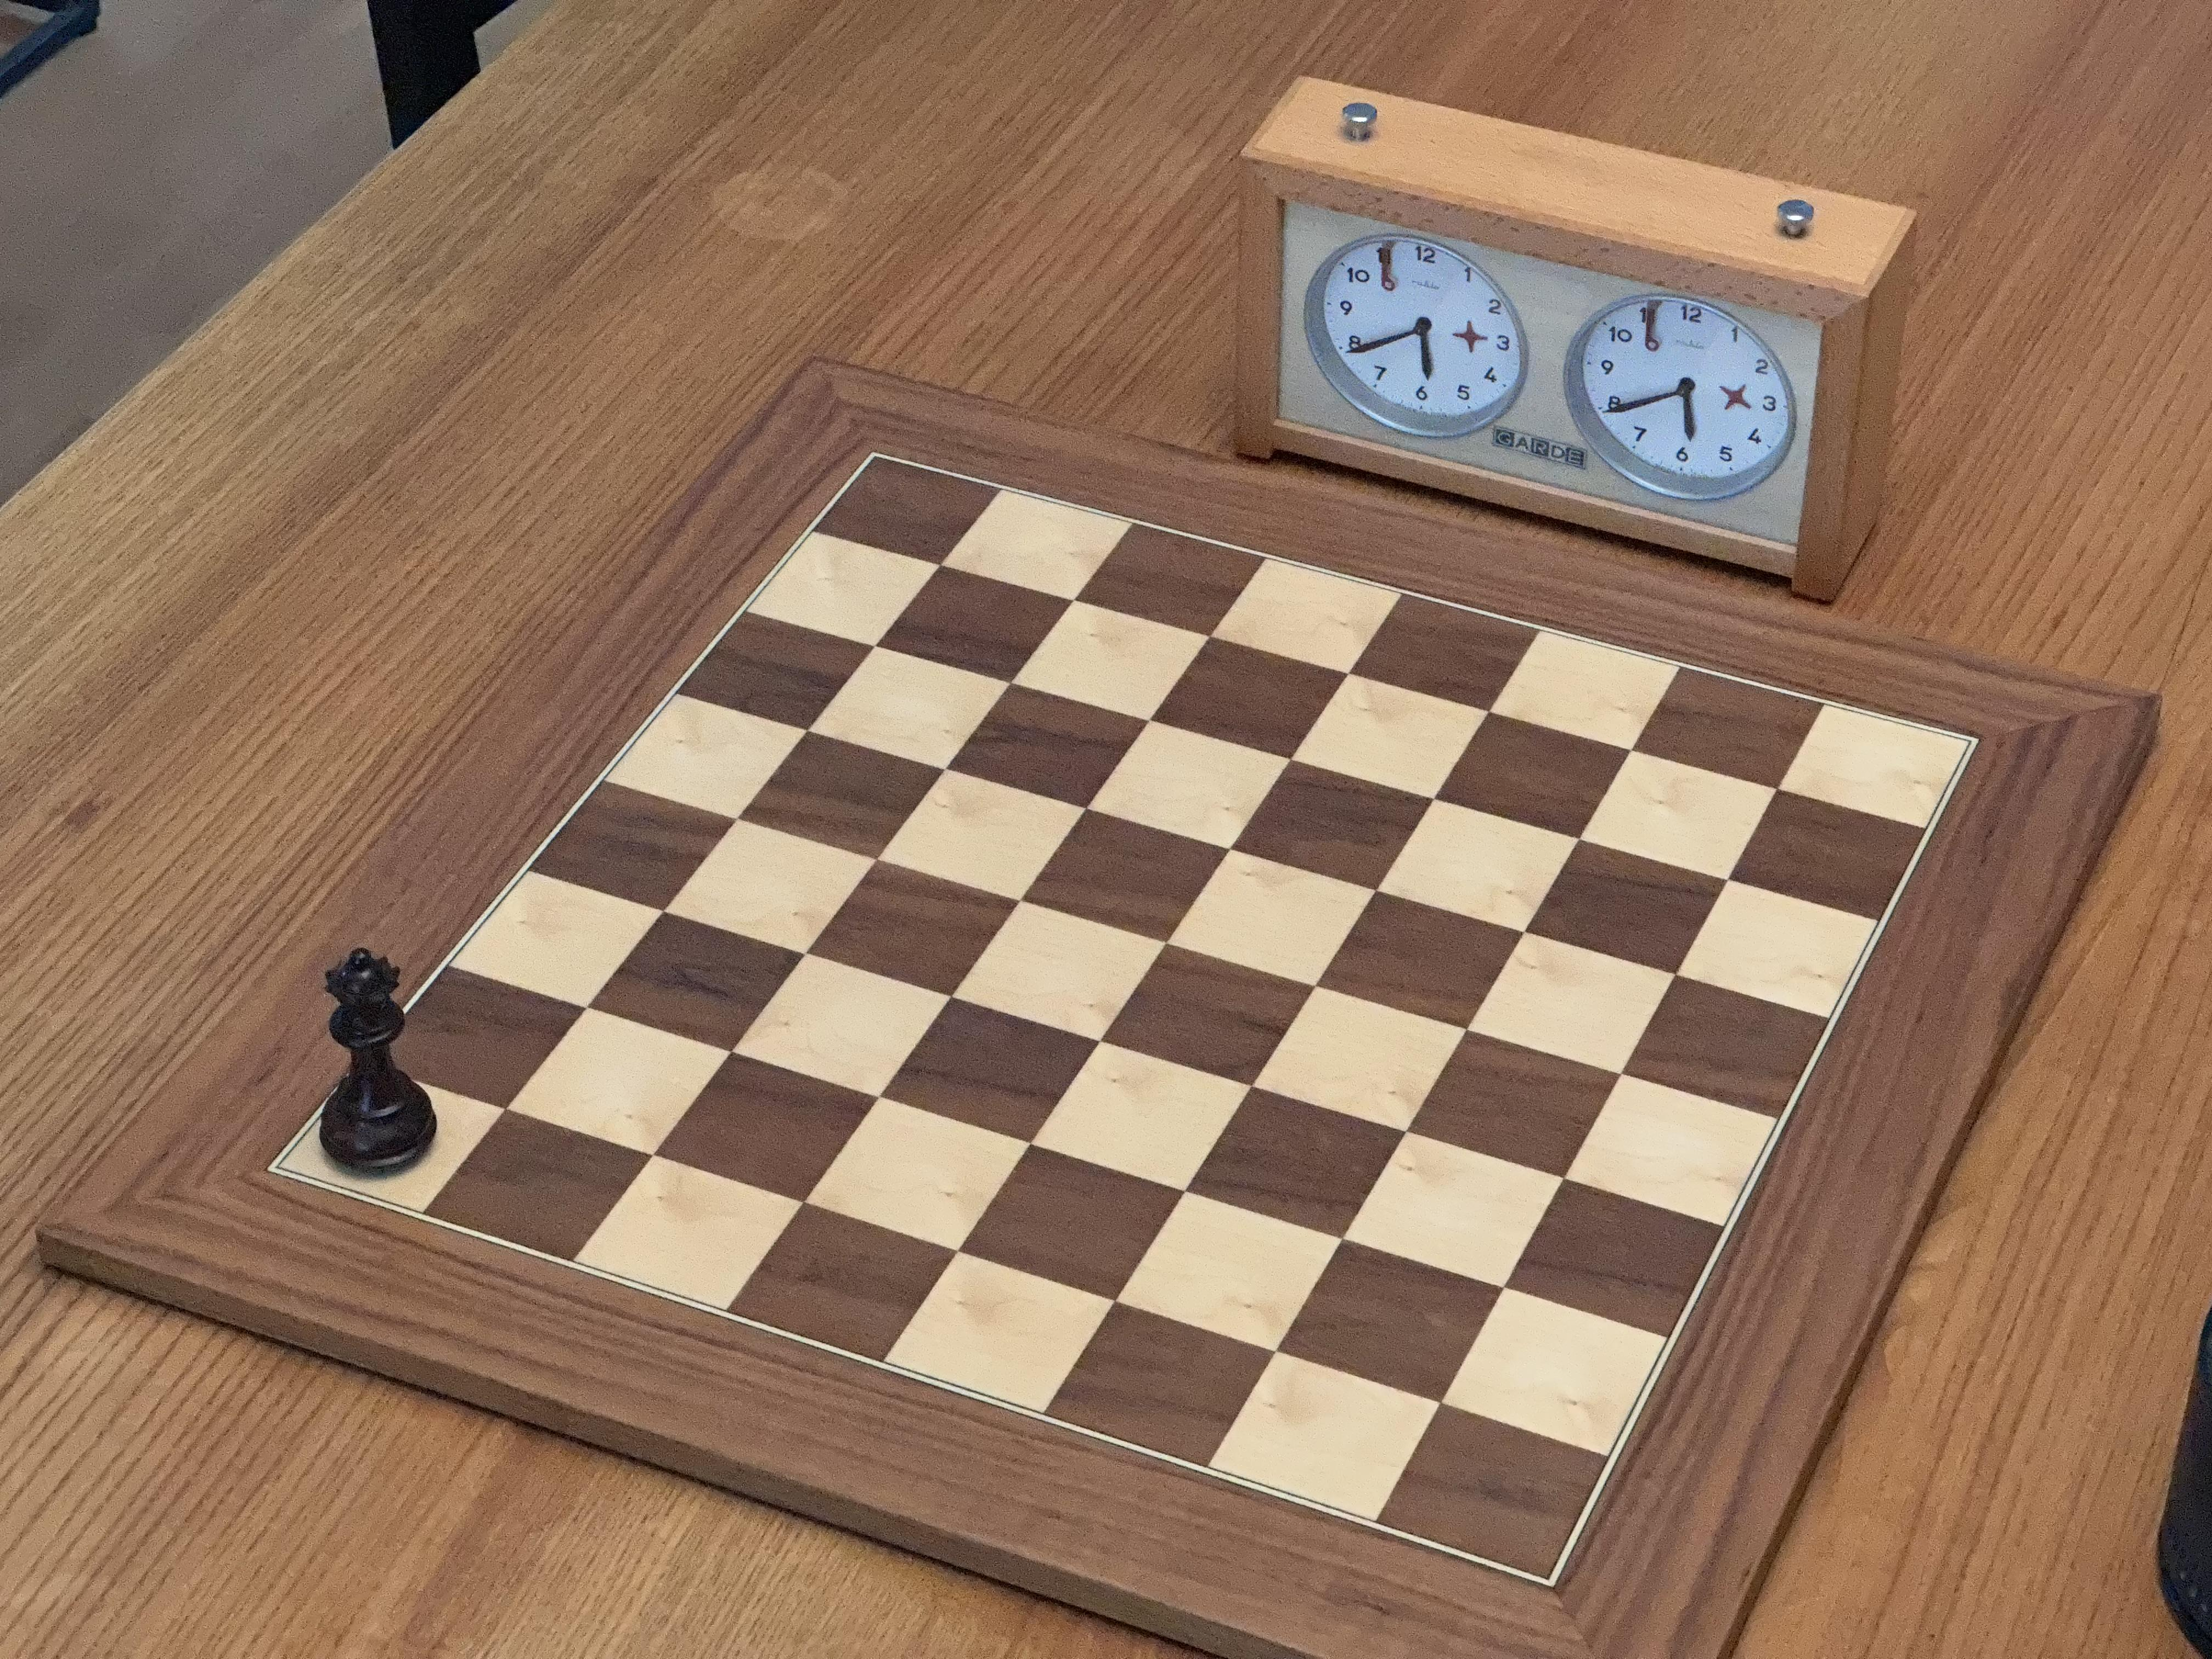Black Queen: (300, 936, 448, 1194)
